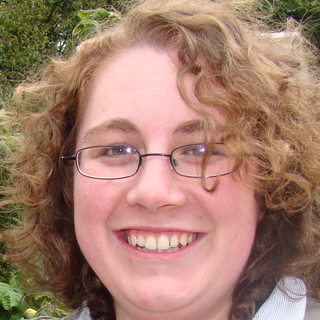eye: (91, 138, 148, 166), (171, 138, 225, 165)
